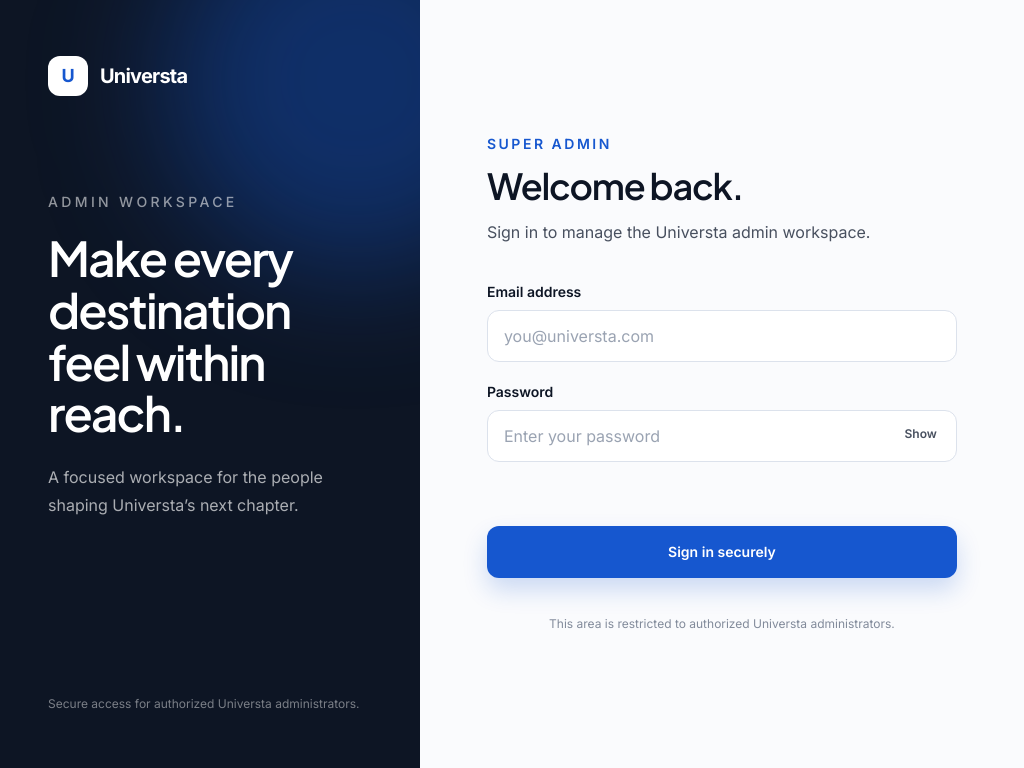
Scenario: LoginScreen › shows a disabled loading state during submission
Type "admin@example.com" into the field labelled "Email address" at (722, 336), box [487,310,957,362]
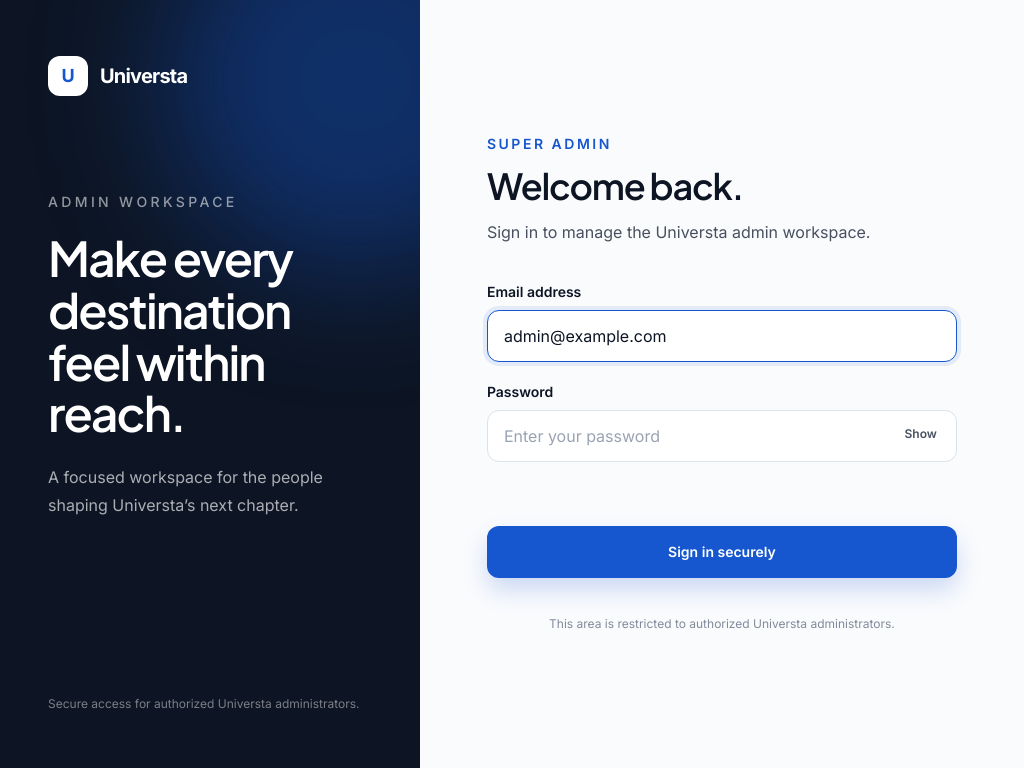
Type "secret" into the password field labelled "Password" at (722, 436), box [487,410,957,462]
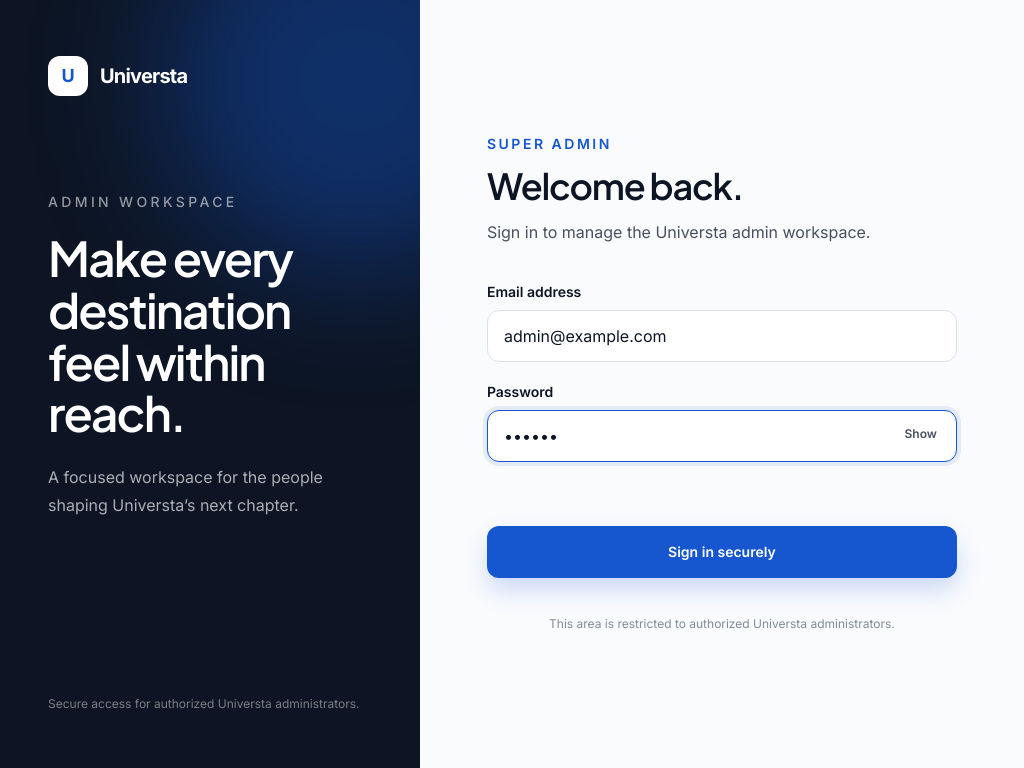
Click the button "Sign in securely" at (722, 552), box [487,526,957,578]
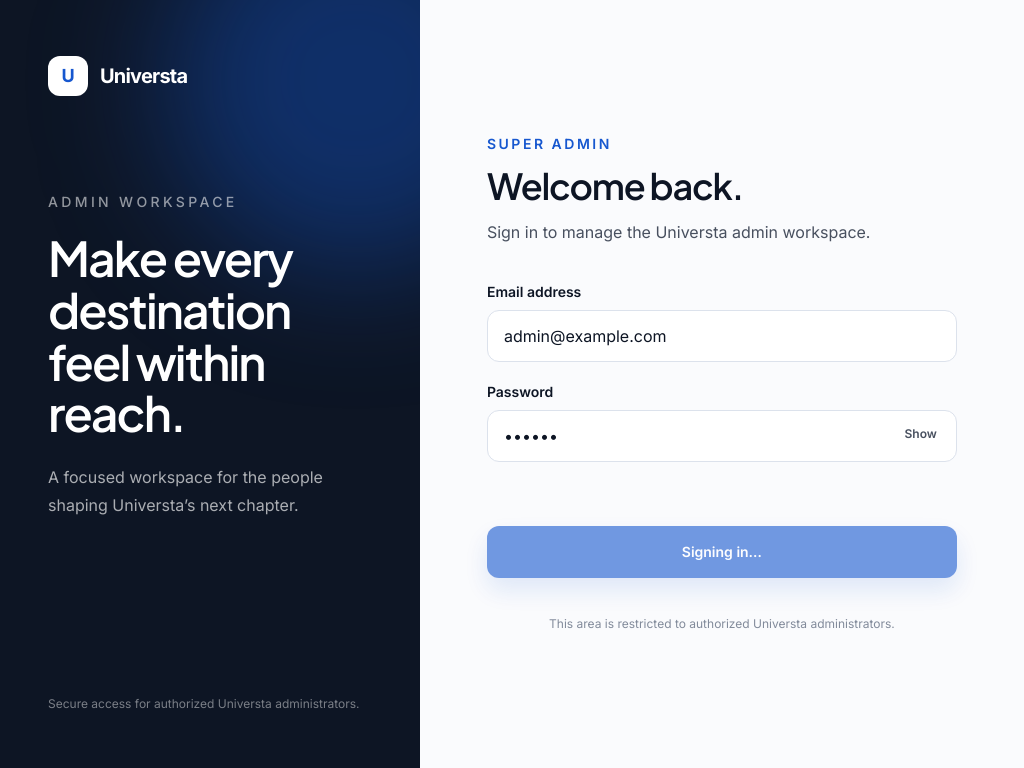
Expected: the button "Signing in…" is disabled, [487,526,957,578]
